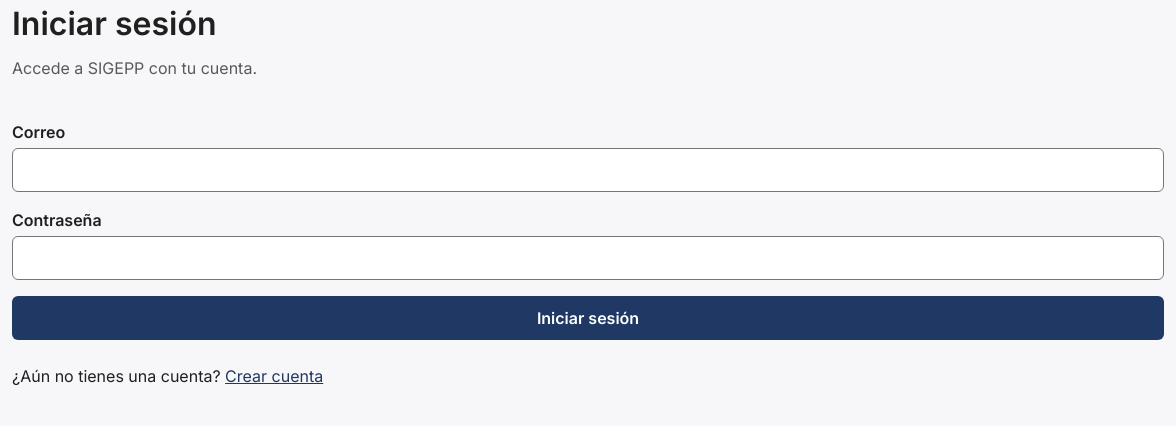
Test case: error 401 conserva valores y rehabilita controles sin refresh ni retry
Type "gerente@empresa.com" into the field labelled "Correo" at (588, 170), box left=12, top=148, right=1164, bottom=192
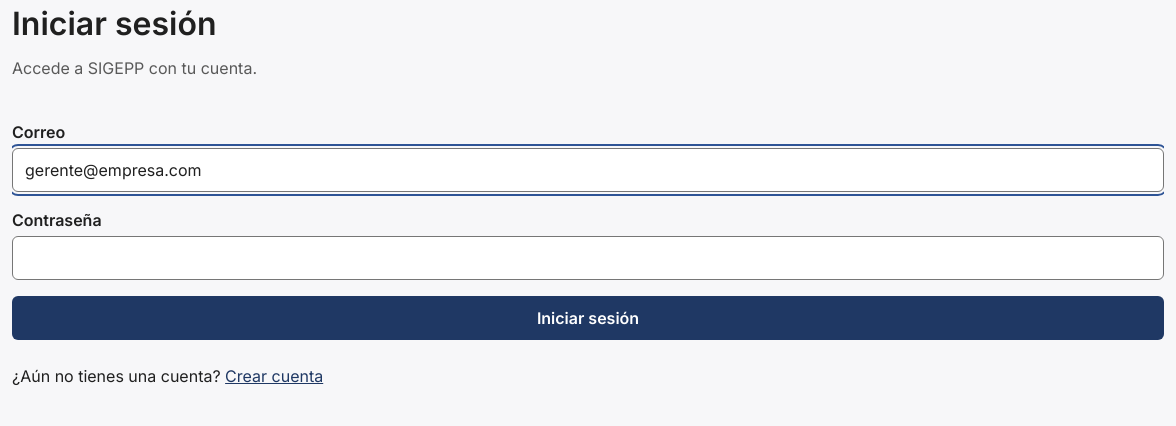
Type "secreto123" into the password field labelled "Contraseña" at (588, 258), box left=12, top=236, right=1164, bottom=280
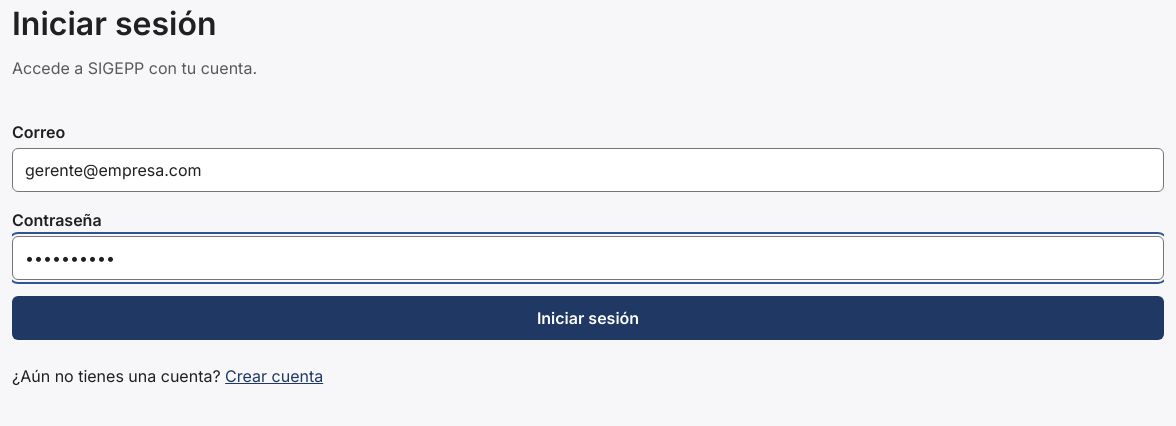
Click the button "Iniciar sesión" at (588, 318), box left=12, top=296, right=1164, bottom=340
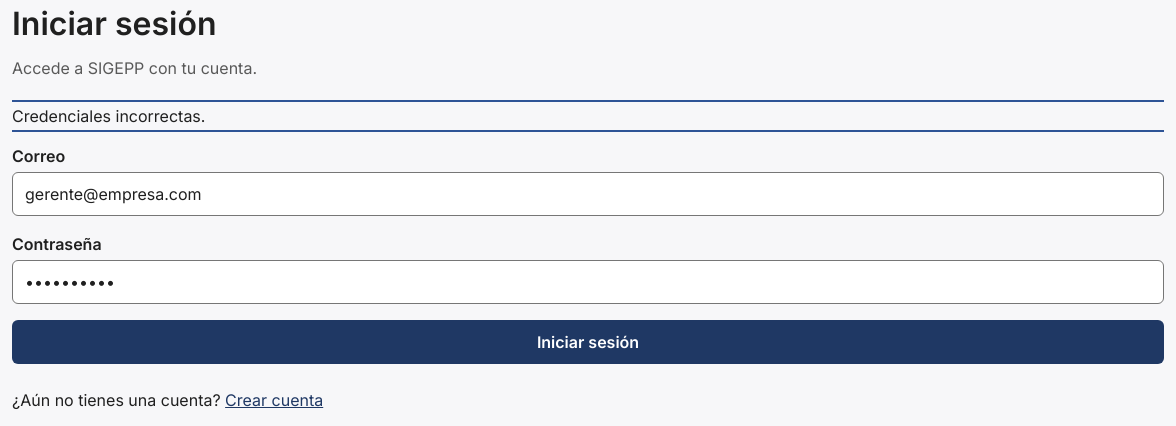
Check: the button "Iniciar sesión" is enabled, box left=12, top=320, right=1164, bottom=364
Check: the message reads "Credenciales incorrectas.", box left=12, top=106, right=205, bottom=126
